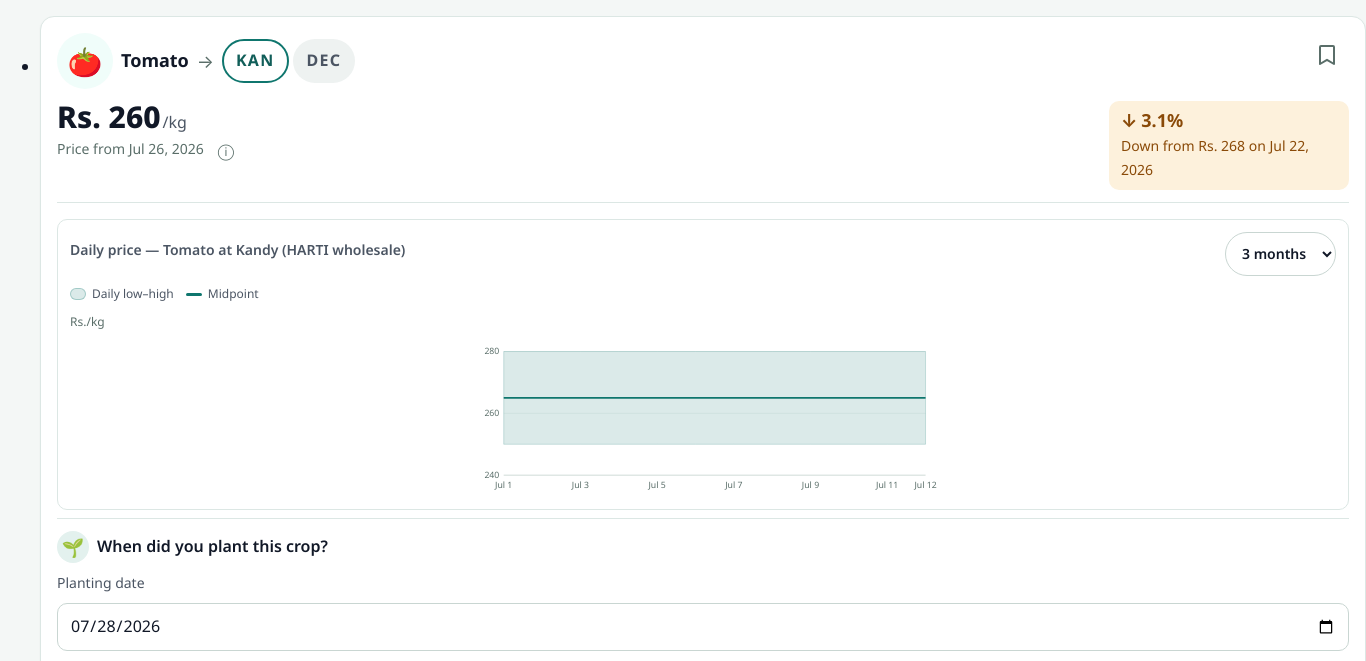
WatchlistCard — a tab switch moves the WHOLE market-scoped block › swaps the price, the observed date and the trend line together
Check: the text "Rs. 260" is shown, box [57,101,161,132]
Check: the text "Price from Jul 26, 2026 ⓘ" is shown, box [57,136,248,164]
Click the tab with aria-label "Dambulla Dedicated Economic Centre (DEC)" at [324, 61], box [292,39,355,83]
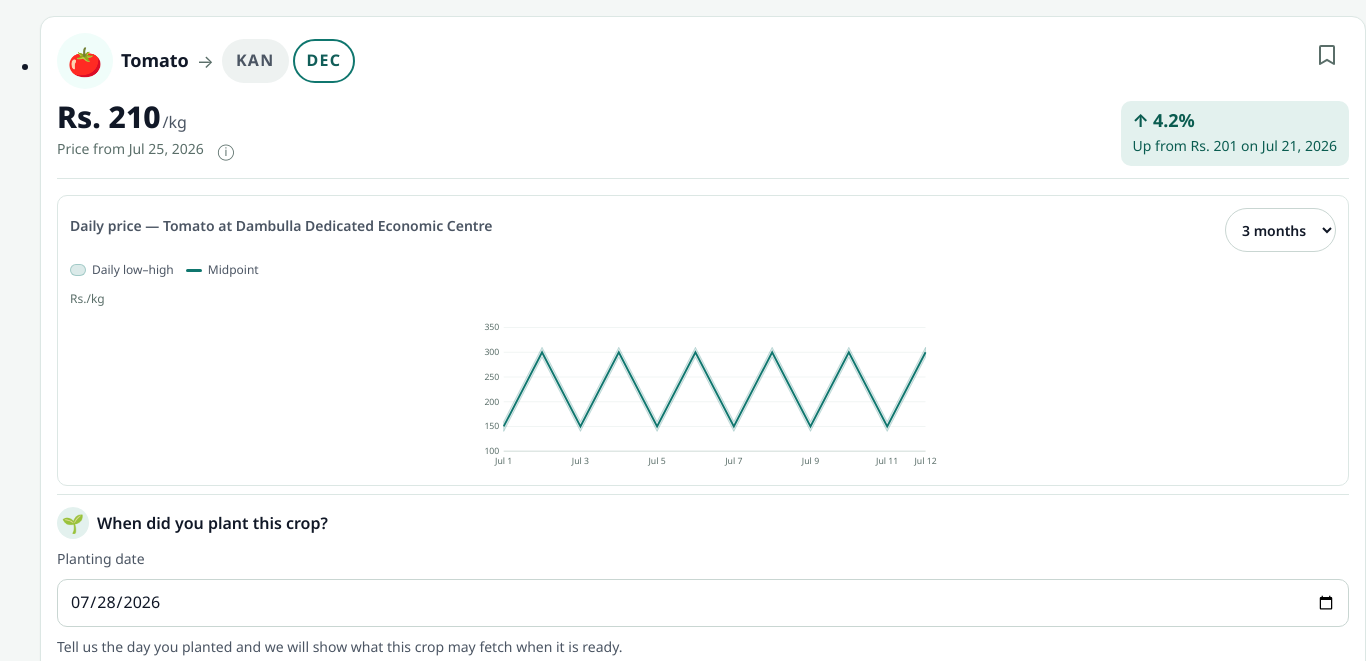
Check: the text "Rs. 210" is shown, box [57,101,161,132]
Check: the text "Rs. 260" is gone
Check: the text "Price from Jul 25, 2026 ⓘ" is shown, box [57,136,248,164]
